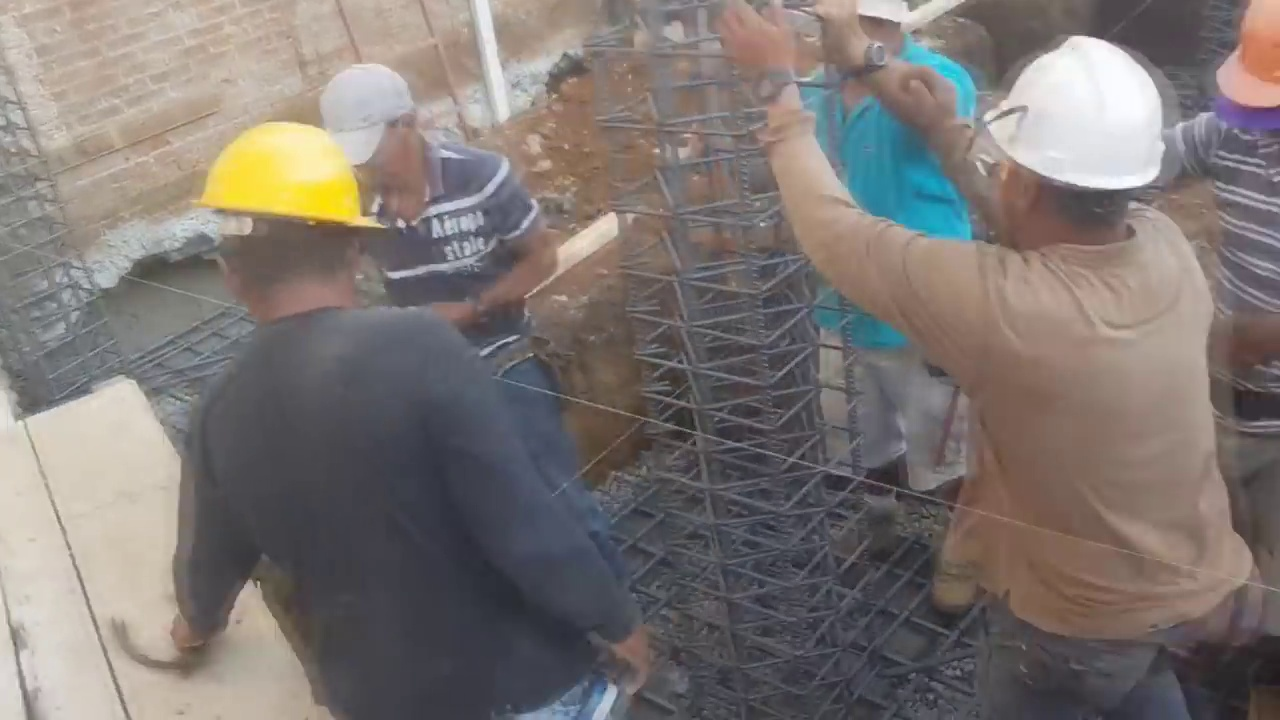helmet: (984, 33, 1166, 194), (192, 117, 387, 233), (1216, 2, 1280, 112)
helmet-off: (321, 65, 441, 222), (804, 4, 915, 78)
helmet-on: (984, 24, 1166, 261), (188, 118, 386, 327), (1215, 2, 1280, 150)
person: (722, 3, 1256, 717), (164, 123, 655, 717), (320, 63, 601, 533), (790, 3, 973, 550), (1162, 12, 1279, 545)
